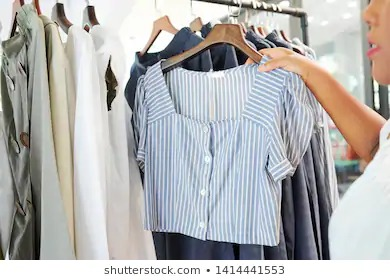C_short blouse: (131, 55, 314, 252)
